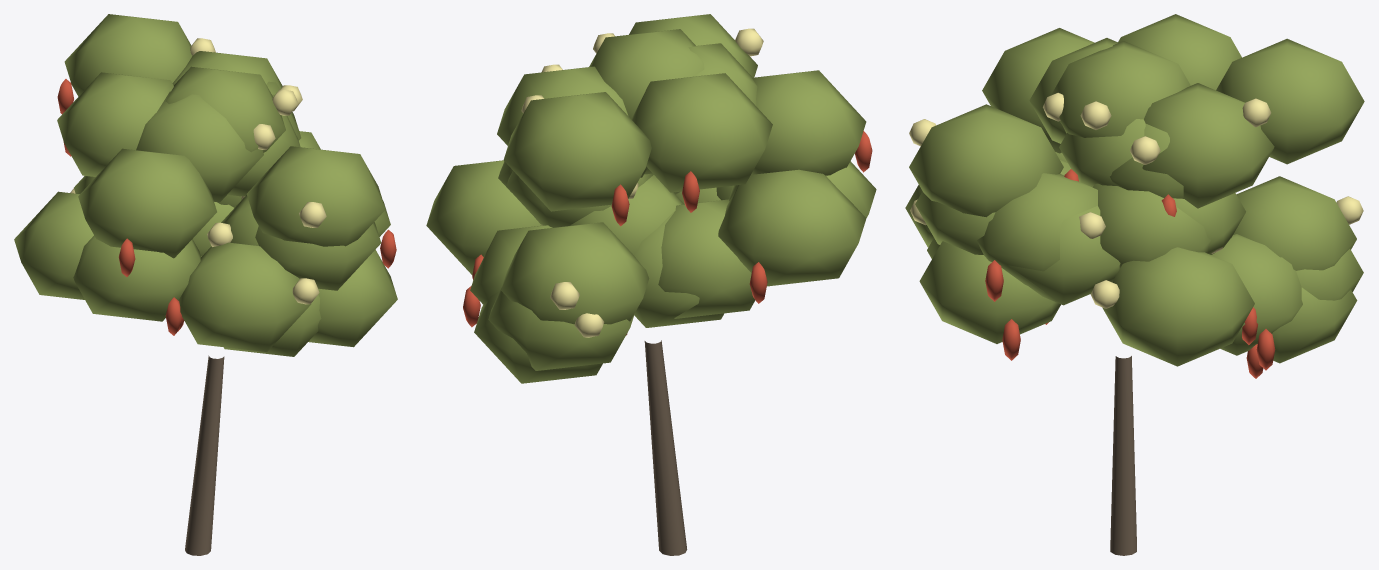
The model's file is adult-a.lod0.glb.
The picture shows the model from 3 angles, left to right: view 1: azimuth 30°, elevation 25°; view 2: azimuth 150°, elevation 25°; view 3: azimuth 270°, elevation 25°; orthographic projection. The views are drawn at different scales.
Parts seen in each view (by area): view 1: foliage, bark, flowers, fruit; view 2: foliage, bark, fruit, flowers; view 3: foliage, flowers, bark, fruit.
Boxes of the visible parts, left/top/right/bottom form: foliage: left=14, top=14, right=397, bottom=356; bark: left=185, top=355, right=224, bottom=555; flowers: left=70, top=38, right=326, bottom=304; fruit: left=57, top=79, right=396, bottom=335; foliage: left=426, top=14, right=876, bottom=383; bark: left=644, top=340, right=687, bottom=555; fruit: left=463, top=131, right=872, bottom=335; flowers: left=521, top=28, right=763, bottom=337; foliage: left=905, top=14, right=1364, bottom=366; flowers: left=909, top=92, right=1363, bottom=308; bark: left=1110, top=356, right=1136, bottom=555; fruit: left=985, top=169, right=1275, bottom=378.
Size of the model in its own units: 5.72 by 7 by 5.69.
